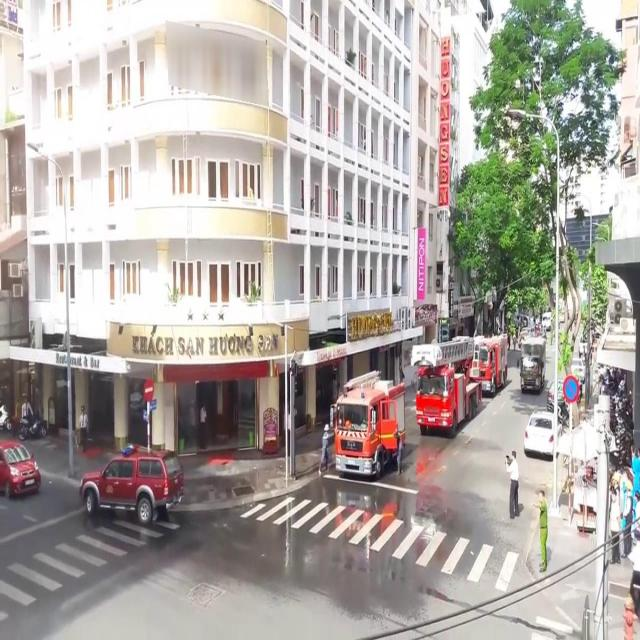car: (79, 449, 183, 523), (0, 434, 40, 498), (524, 409, 558, 458)
truck: (334, 368, 404, 474), (414, 346, 476, 434), (472, 332, 509, 394), (520, 337, 546, 393)
